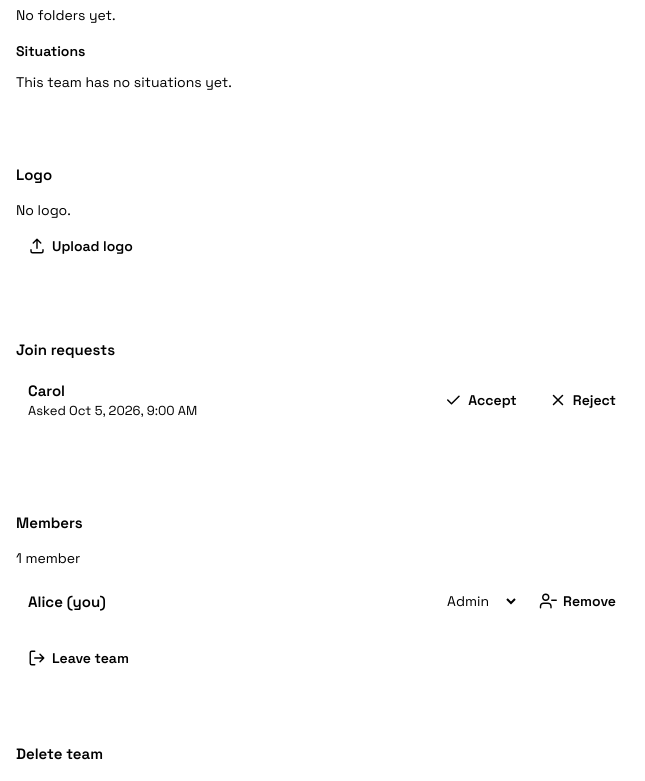
team page › says when another Admin decided a request meanwhile
The width and height of the screenshot is (645, 781).
(page scrolled)
Click the button with aria-label "Reject Carol".
click(582, 400)  # box [537,391,628,409]
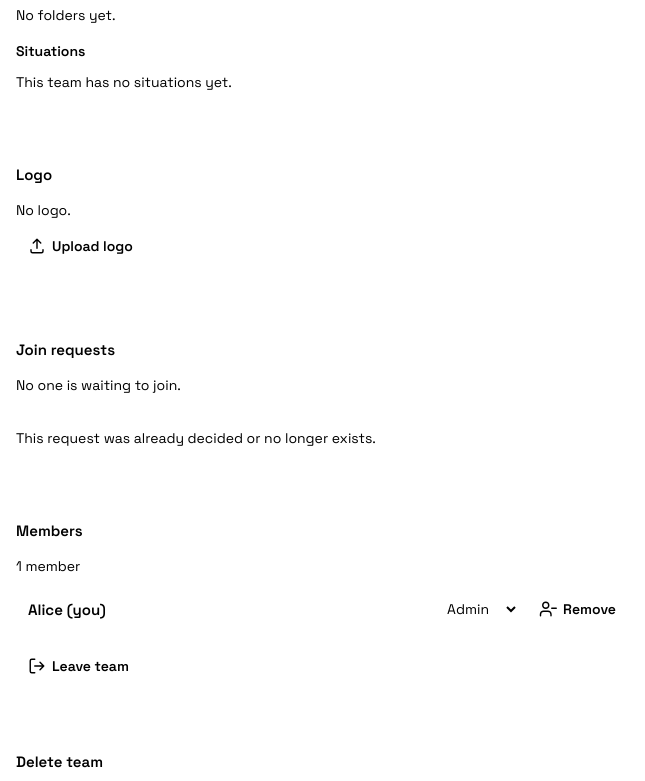
Check: the message reads "This request was already decided or no longer exists.", box [16,429,376,447]
Check: the list item "Carol Asked Oct 5, 2026, 9:00 AM Accept Reject" is gone
